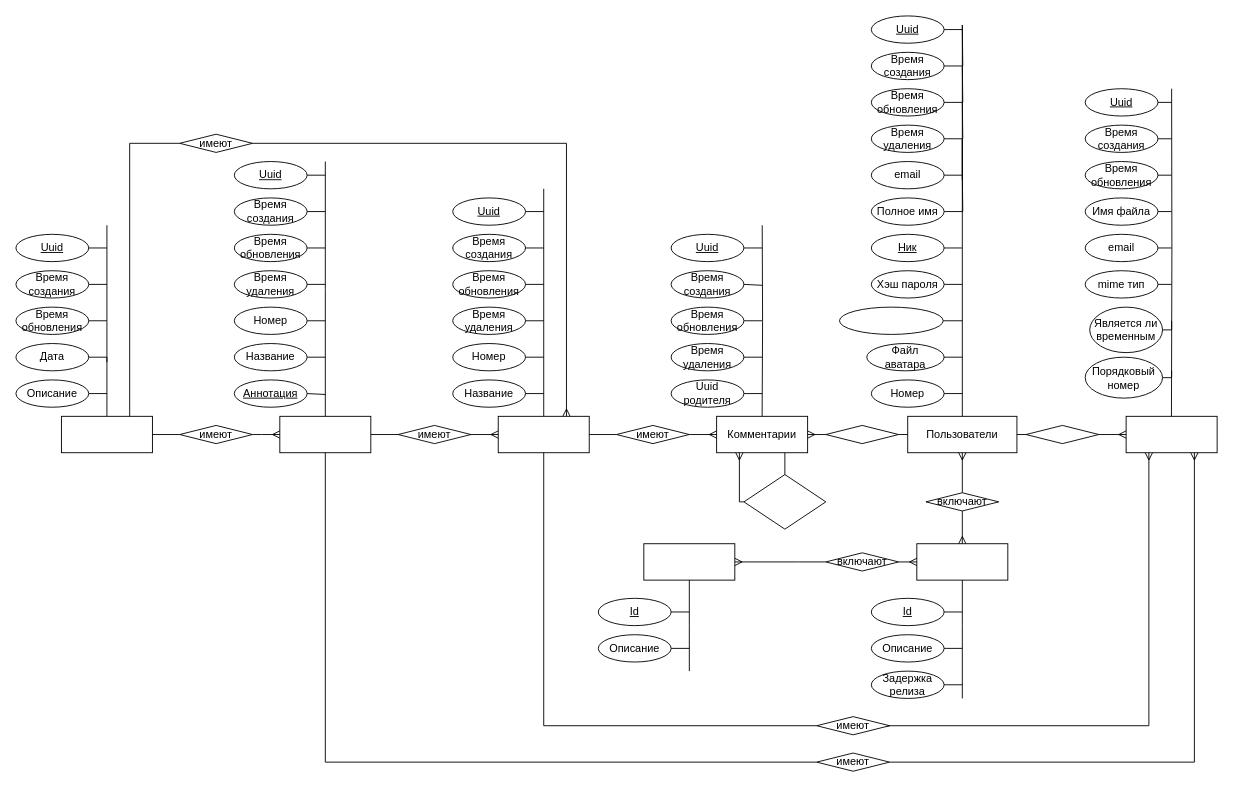
This 1233x787 diagram has some shape labels left out. Here are the shapes that lost their labels. From the top down, the box of each, then its label:
(839, 306, 943, 334): Верифицирован ли email
(61, 415, 152, 453): Релиз
(279, 415, 371, 453): Часть
(497, 415, 589, 453): Главы
(825, 425, 899, 444): пишут
(1025, 425, 1099, 444): создают
(1125, 415, 1217, 453): Файлы
(743, 474, 826, 529): являются дочерними
(643, 543, 735, 580): Разрешения
(916, 543, 1008, 580): Роли
